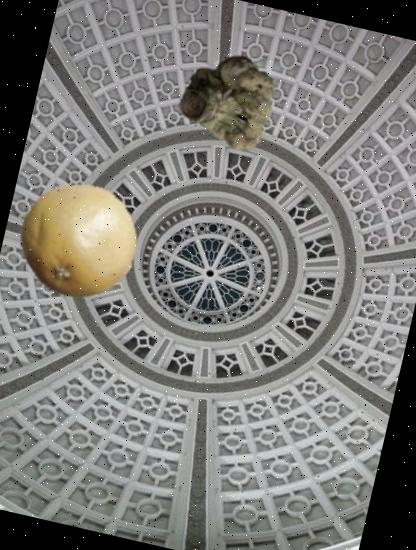Cauliflower: (174, 41, 289, 156)
Grapefruit: (6, 167, 150, 311)
